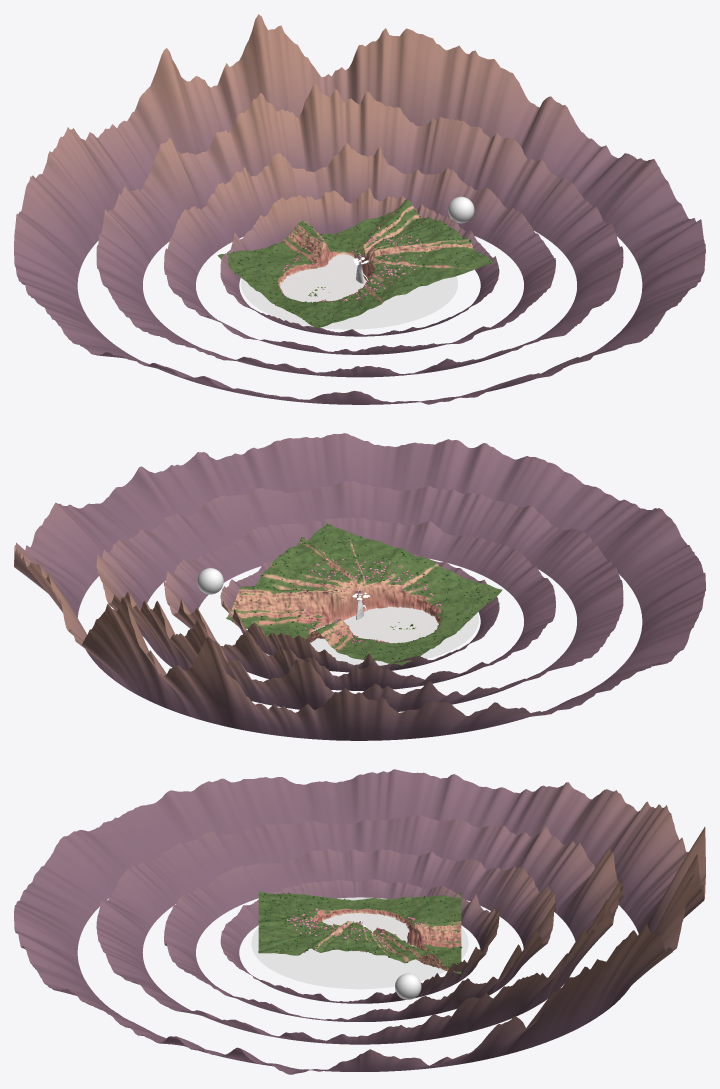
File: micro-biome.glb
3 views of the same model, one above another, from view 1: azimuth 30°, elevation 25°; view 2: azimuth 150°, elevation 25°; view 3: azimuth 270°, elevation 25° (orthographic).
Visible parts, largest first — view 1: Landing.Mountains, Landing.Canyon, Pool, Landing.Shrubs, Landing.Blossom; view 2: Landing.Mountains, Landing.Canyon, Pool, Landing.Shrubs, Landing.Blossom, Sun; view 3: Landing.Mountains, Landing.Canyon, Pool, Landing.Shrubs, Sun, Landing.Blossom.
Boxes of the visible parts, x1,y1,x2,y2 form: Landing.Mountains: (14,14,705,404); Landing.Canyon: (217,199,493,327); Pool: (241,254,457,329); Landing.Shrubs: (219,201,493,326); Landing.Blossom: (282,227,421,302); Landing.Mountains: (14,433,705,740); Landing.Canyon: (226,524,502,665); Pool: (310,606,478,665); Landing.Shrubs: (232,523,498,664); Landing.Blossom: (299,558,441,643); Sun: (197,568,223,594); Landing.Mountains: (14,769,705,1074); Landing.Canyon: (258,891,461,973); Pool: (251,897,468,989); Landing.Shrubs: (258,892,462,971); Sun: (395,973,421,999); Landing.Blossom: (286,908,427,948).
Size of the model in its own units: 287 by 60.23 by 287.
